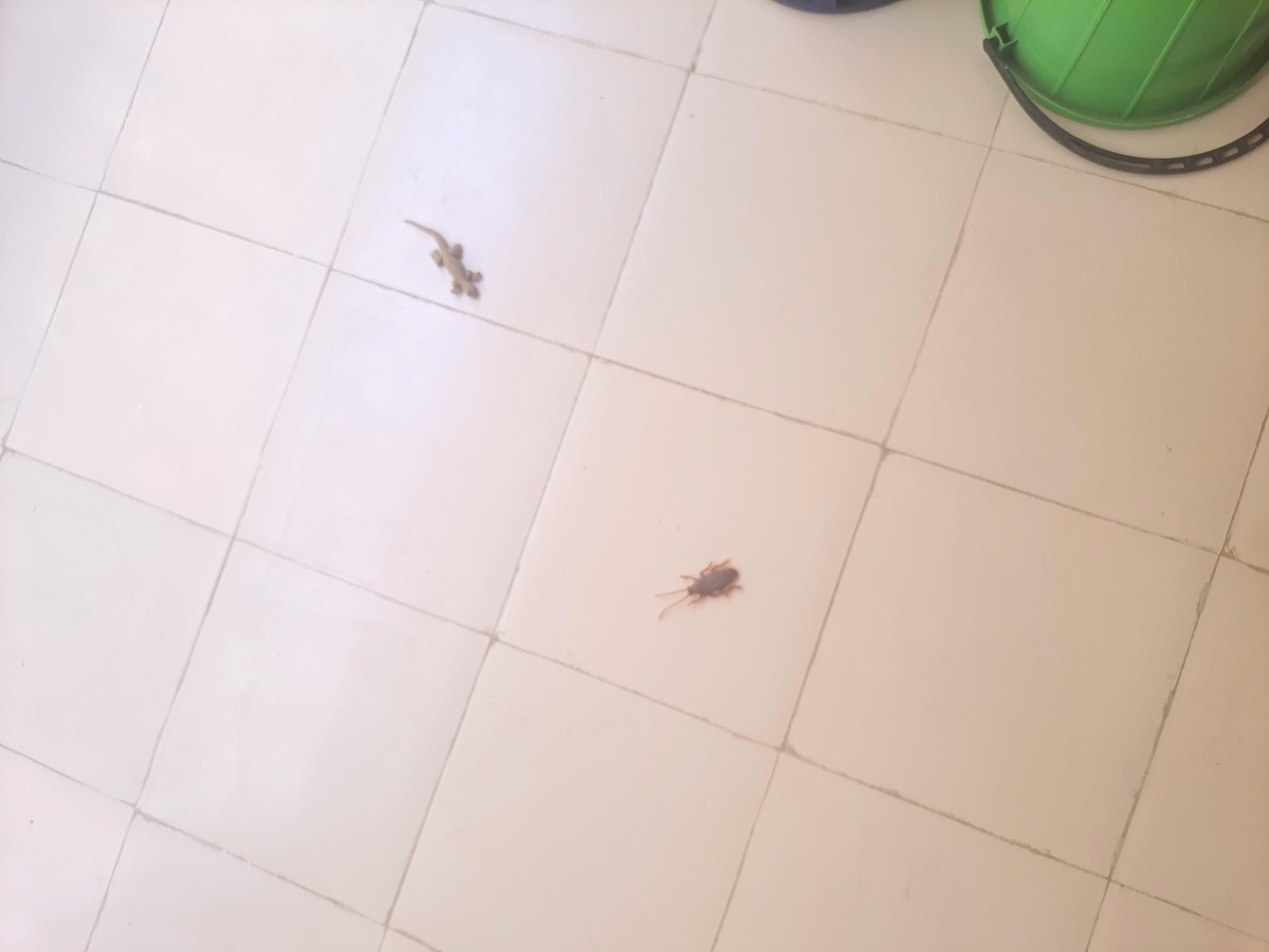cockroach: (422, 485, 540, 559)
lizard: (843, 305, 993, 364)
